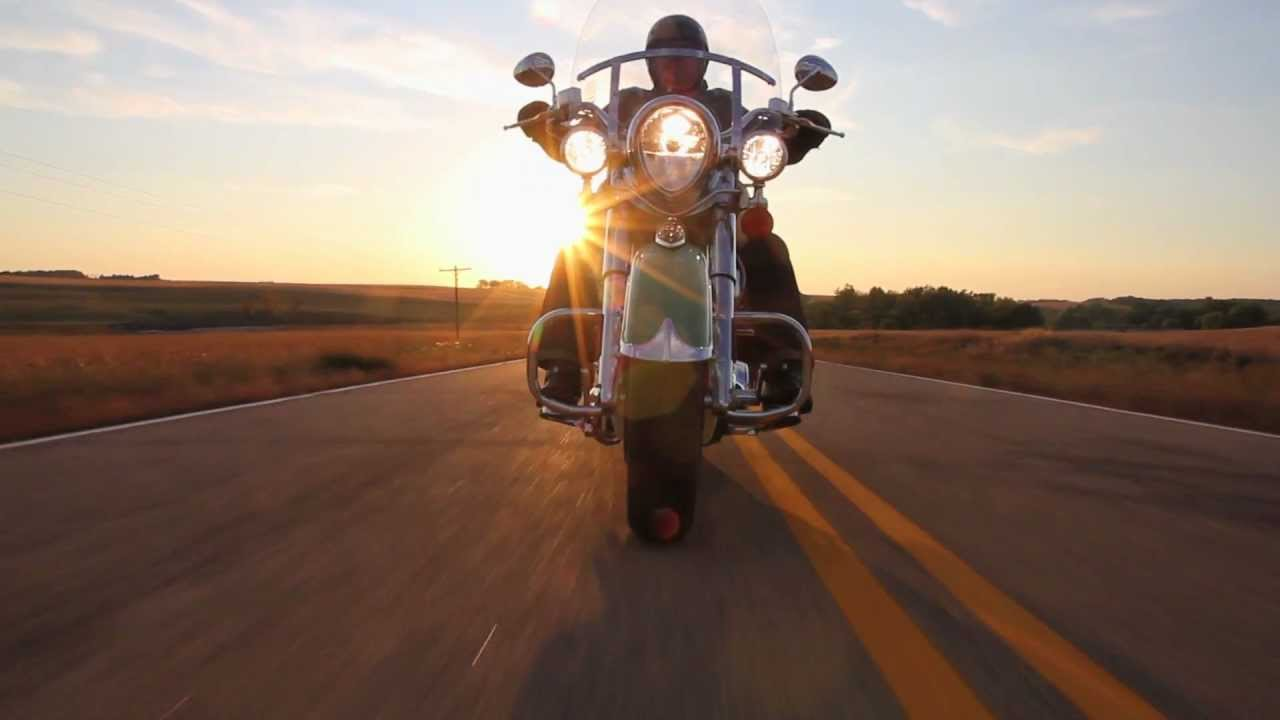Motorcycle: (493, 38, 850, 553)
